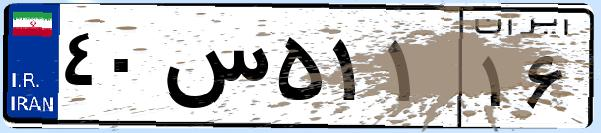0: (110, 28, 158, 98)
1: (385, 28, 445, 110), (330, 28, 385, 110), (475, 38, 525, 113)
4: (57, 26, 110, 100)
5: (270, 28, 330, 110)
6: (525, 38, 570, 115)
س: (158, 20, 270, 120)
